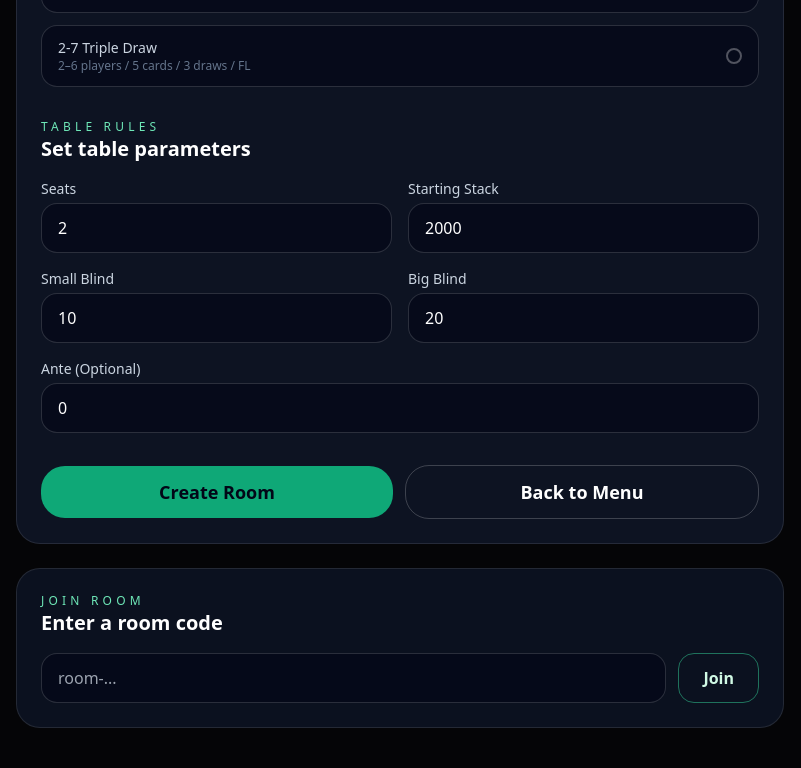
FriendMatchSetupScreen › shows a manual-copy instruction when clipboard access is unavailable
The width and height of the screenshot is (801, 768).
(page scrolled)
Click the button "Create Room": (217, 492) 41,466 -> 393,518
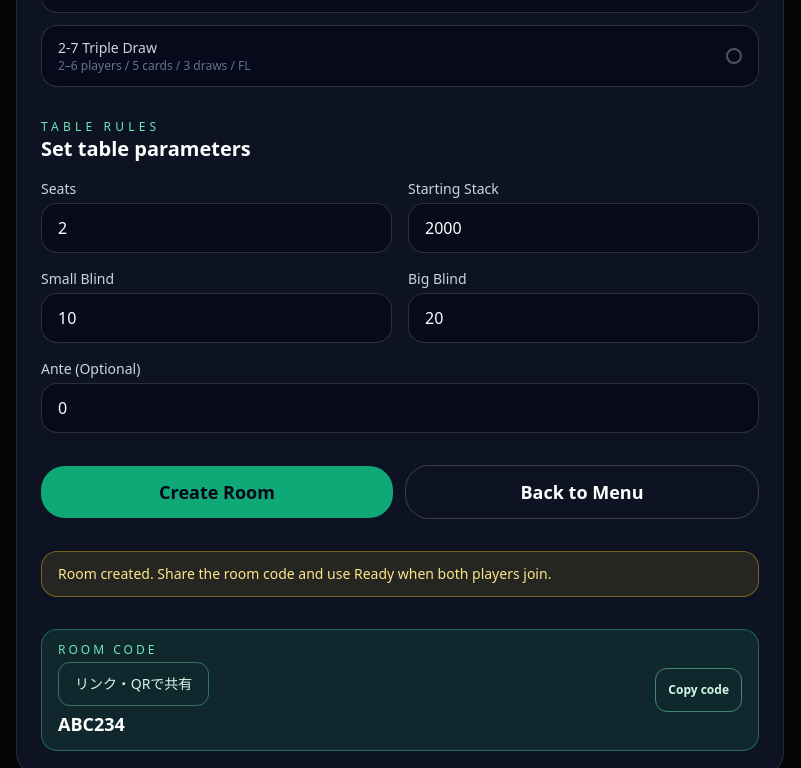
Check: the text "Room created" is shown, box 58,564 -> 551,583
Click the button "Copy code": (699, 690) 655,668 -> 742,712
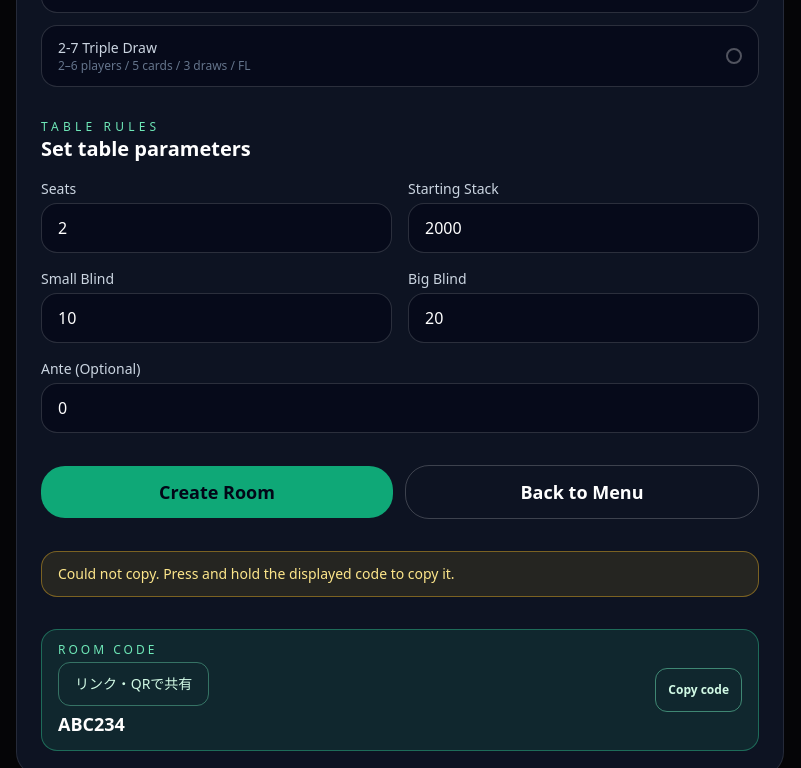
Check: the text with test id "p2p-room-code" reads "ABC234", box 58,712 -> 125,736
Check: the text "Could not copy" is shown, box 58,564 -> 455,583
